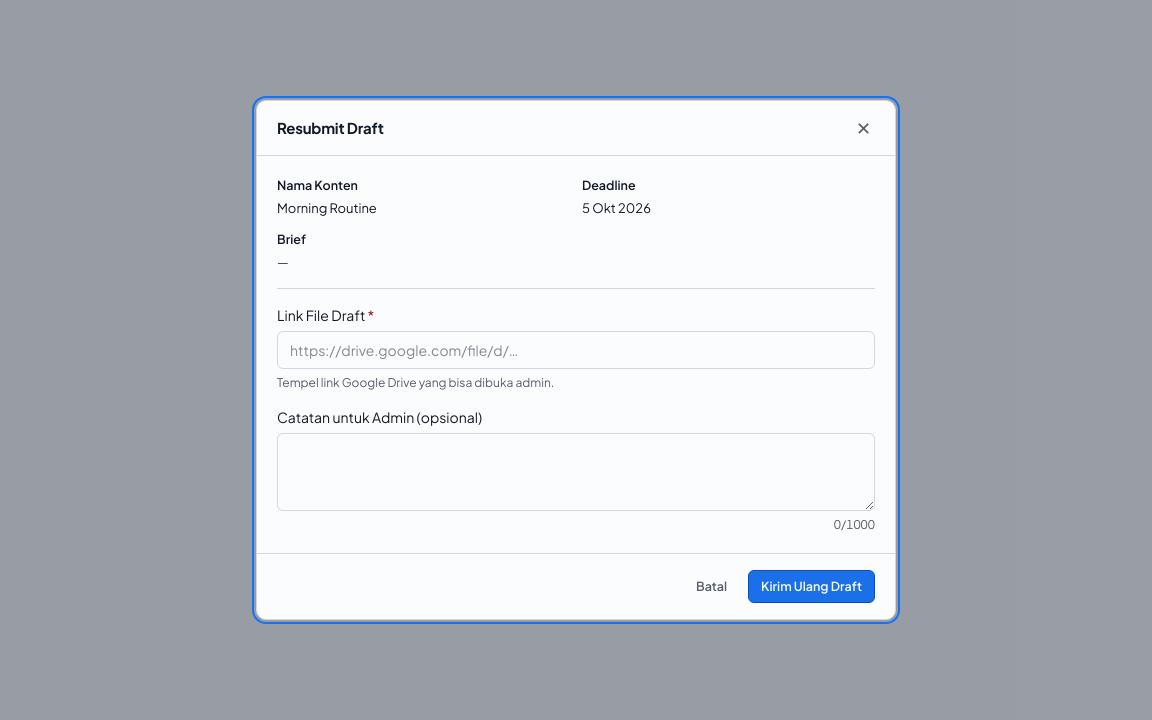
SubmitDraftModal › submit or resubmit › still says it is sending while a resubmit is pending
In the field labelled "Link File Draft": point(576, 350) [277,331,875,369], type "https://drive.google.com/file/d/draft-2"
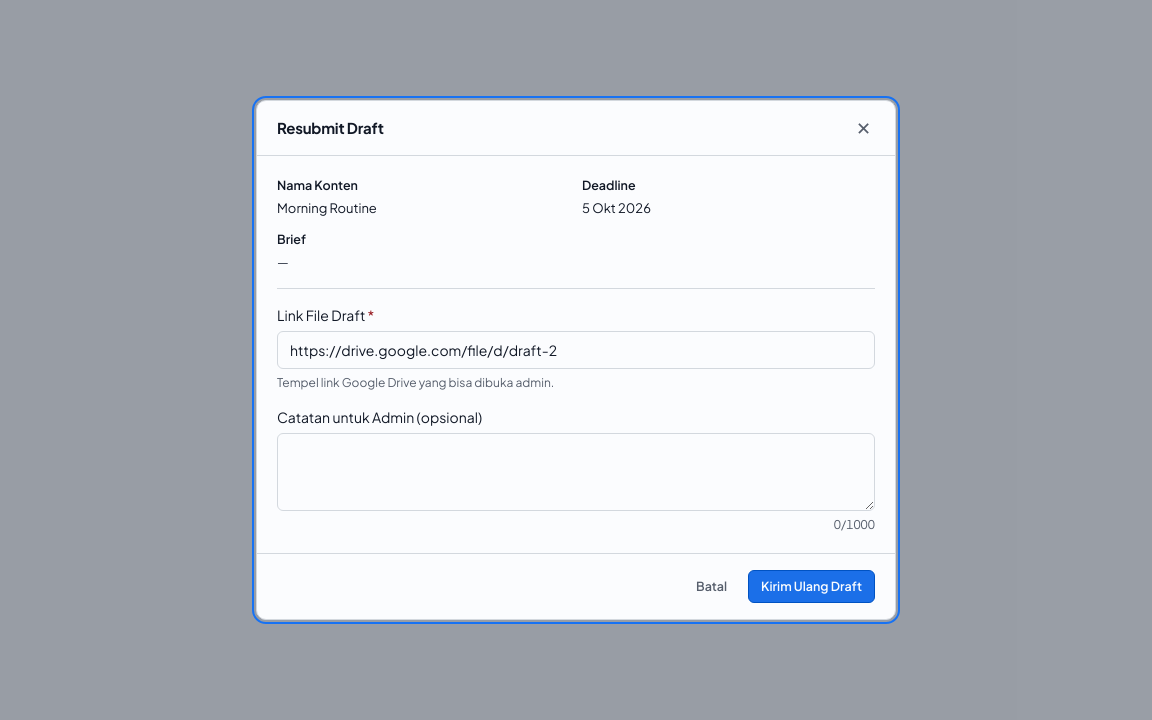
Click the button "Kirim Ulang Draft": point(812, 587) [748,570,875,603]
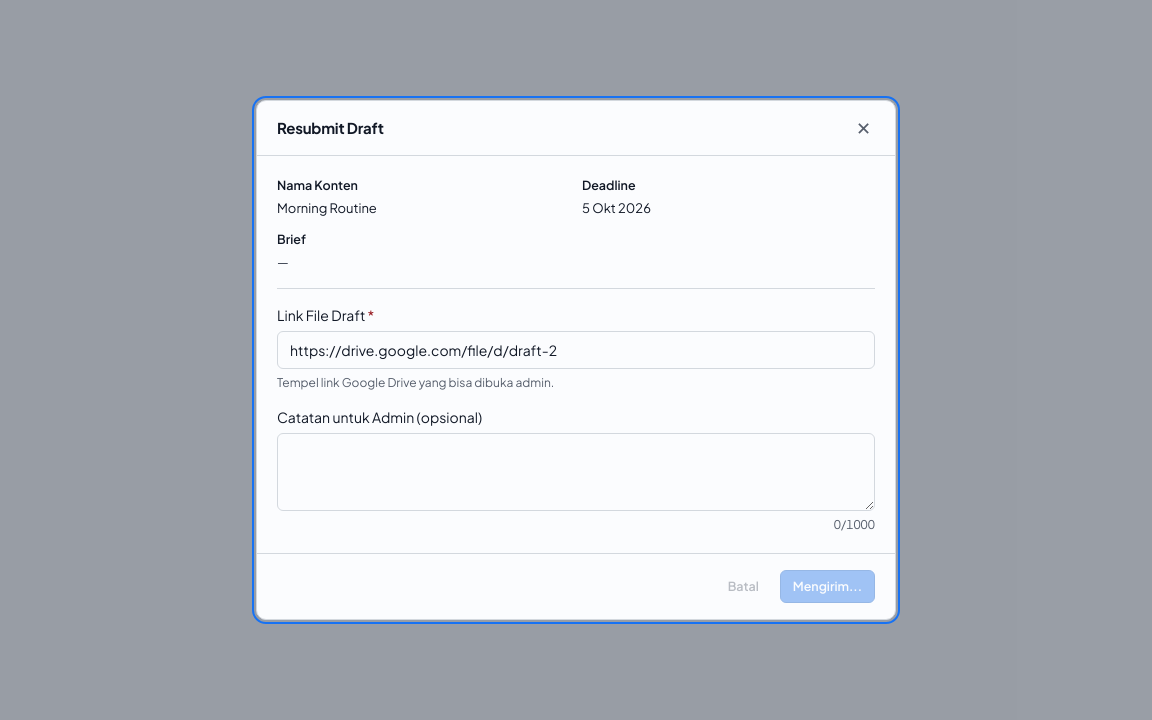
Now the button "Mengirim..." is disabled, box [780,570,875,603]
